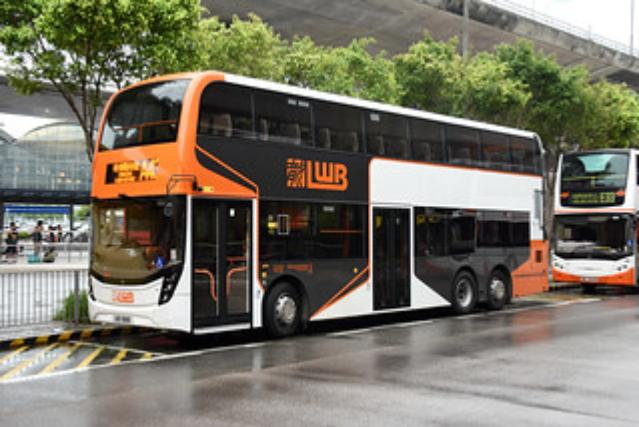bus: (84, 70, 550, 341), (547, 146, 639, 292)
